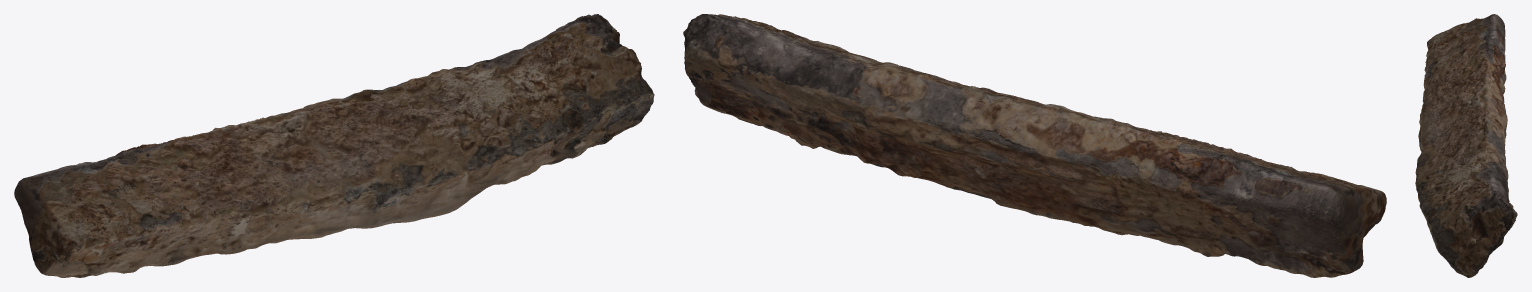
File: Madera.glb
3 renders of one model, left to right at view 1: azimuth 30°, elevation 25°; view 2: azimuth 150°, elevation 25°; view 3: azimuth 270°, elevation 25°, orthographic. The views are drawn at different scales.
Visible parts, largest first — view 1: mat-0; view 2: mat-0; view 3: mat-0.
Part boxes in pixels (x1,y1,x2,y2): mat-0: (14, 14, 654, 277); mat-0: (683, 14, 1386, 277); mat-0: (1415, 14, 1517, 277).
Size of the model in its own units: 17.72 by 3.6 by 3.57.
Materials: 1 (1 with a texture image).
